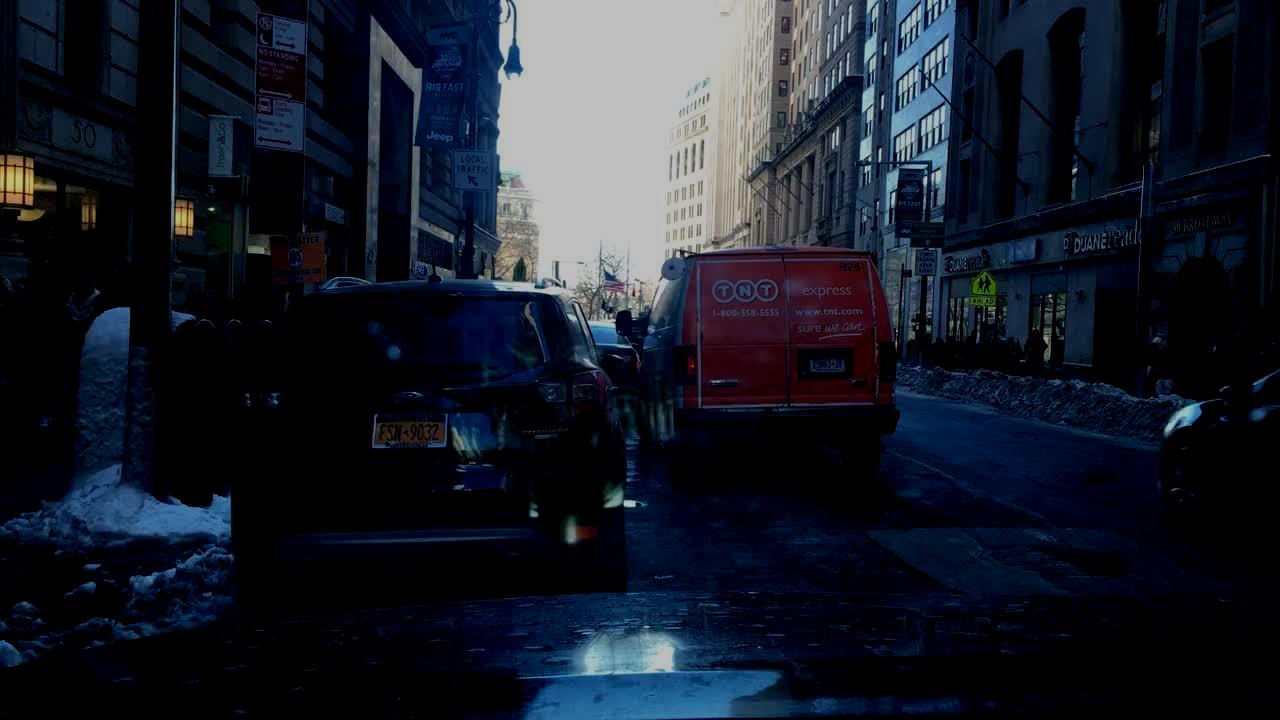ford: (390, 389, 428, 408), (850, 376, 870, 392)
